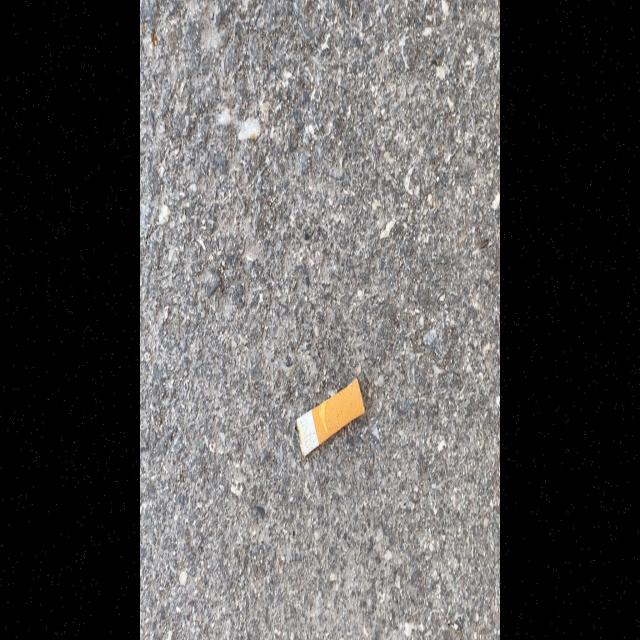other waste: (296, 377, 365, 457)
